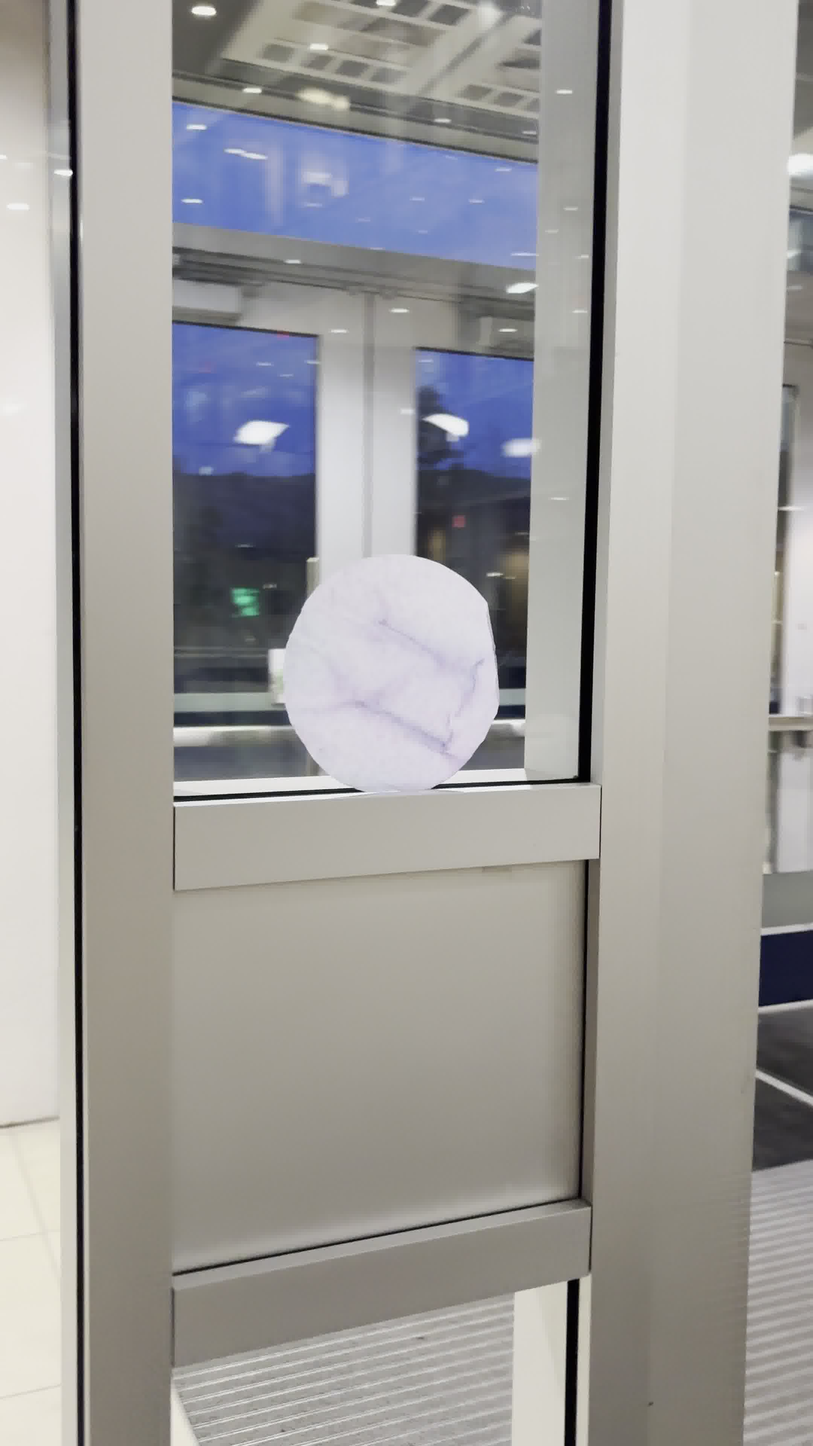Target: (282, 555, 499, 791)
